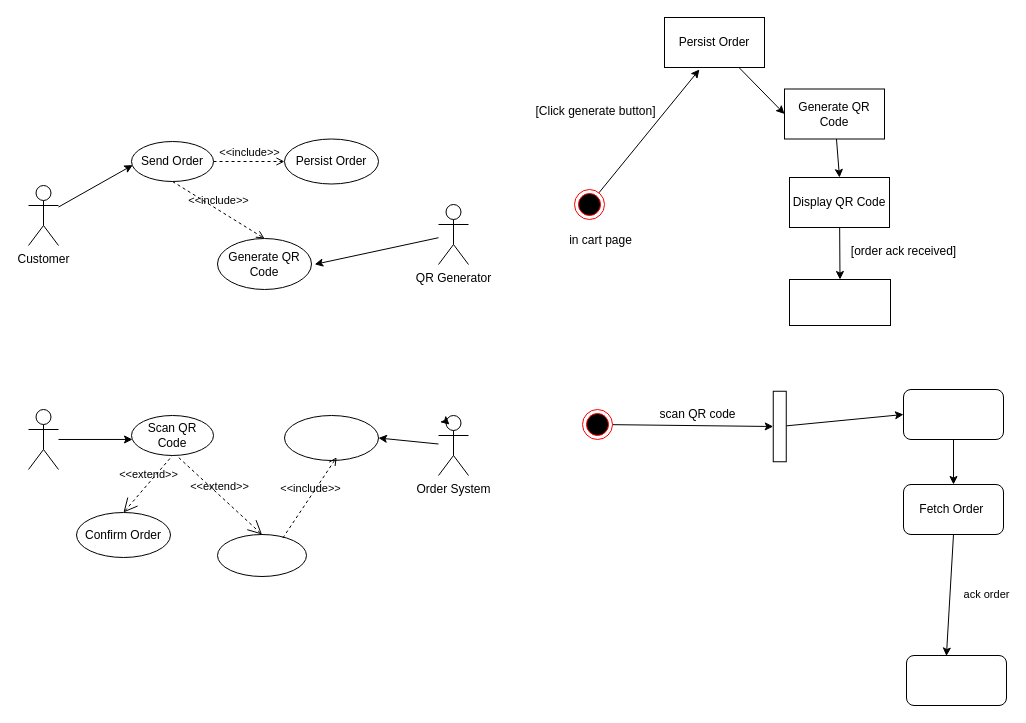
This 1026x723 diagram has some shape labels left out. Each missing label, with the centre of its shape:
Cancel Order: [261,555]
Delete Order: [331,437]
Open Order Confirmation Page: [953,414]
return to admin dashboard: [956,680]
RS: [43,439]
Undisplay QR Code: [839,302]
